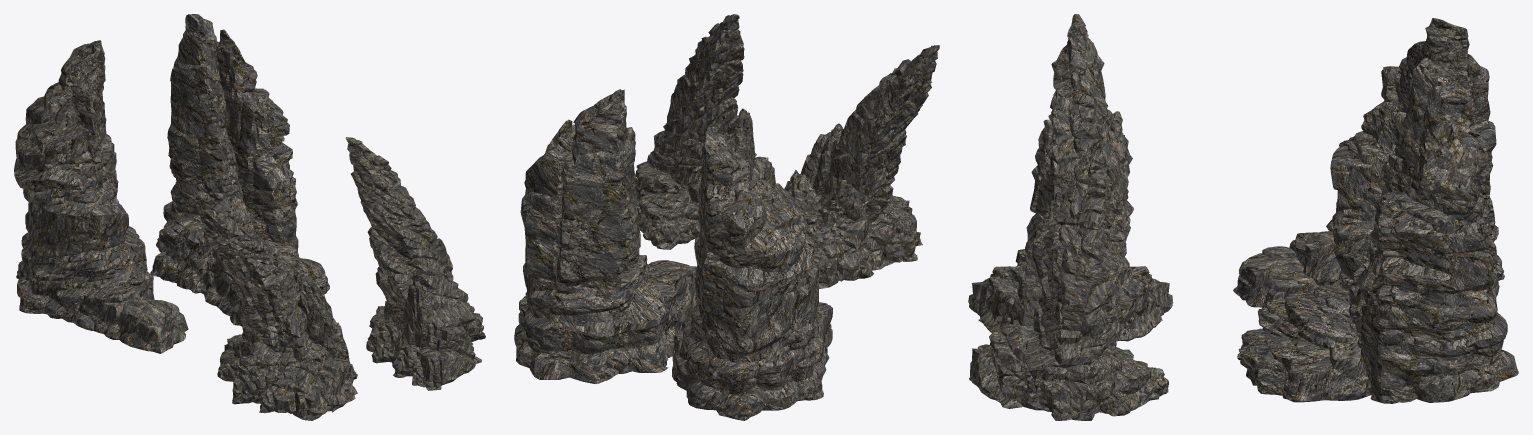
Rendered from Tall Rocks Asset.fbx.
3 views of the same model, side by side, from view 1: azimuth 30°, elevation 25°; view 2: azimuth 150°, elevation 25°; view 3: azimuth 270°, elevation 25° (orthographic). The views are drawn at different scales.
Parts seen in each view (by area): view 1: world.003, geometry_0.001_25pct_more.002, geometry_0.001_25pct_more; view 2: world.003, geometry_0.001_25pct_more.002, geometry_0.001_25pct_more; view 3: world.003, geometry_0.001_25pct_more, geometry_0.001_25pct_more.002.
Boxes of the visible parts, x1,y1,x2,y2 form: world.003: (14,14,329,353); geometry_0.001_25pct_more.002: (193,191,357,420); geometry_0.001_25pct_more: (345,137,485,390); world.003: (514,89,832,420); geometry_0.001_25pct_more.002: (784,45,939,288); geometry_0.001_25pct_more: (635,14,775,249); world.003: (1233,18,1518,403); geometry_0.001_25pct_more: (969,111,1168,420); geometry_0.001_25pct_more.002: (968,14,1173,341).
Size of the model in its own units: 154 by 120 by 198.
Materials: 2 (2 with a texture image).
